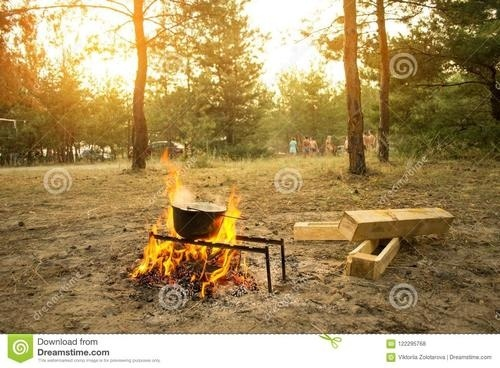fire: (132, 150, 249, 295)
